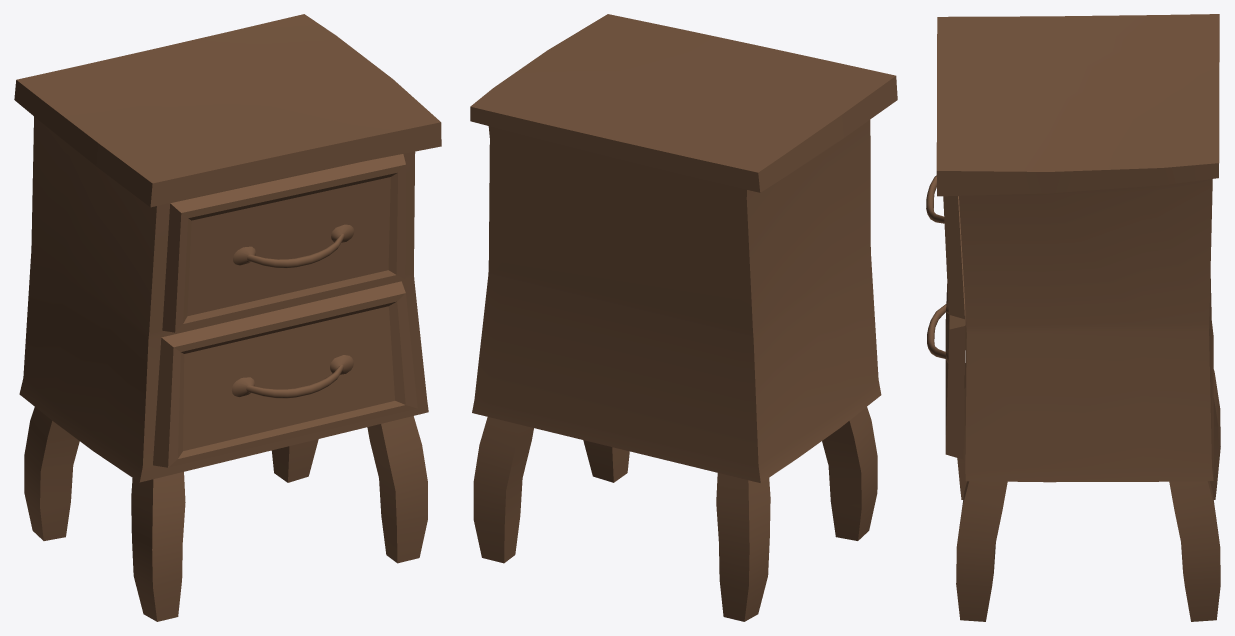
Rendered from SM_Nightstand.FBX.
3 views of the same model, side by side, from view 1: azimuth 30°, elevation 25°; view 2: azimuth 150°, elevation 25°; view 3: azimuth 270°, elevation 25° (orthographic). The views are drawn at different scales.
Parts seen in each view (by area): view 1: SM_Nightstand; view 2: SM_Nightstand; view 3: SM_Nightstand.
Part boxes in pixels (<box>): SM_Nightstand: <box>14,14,441,621</box>; SM_Nightstand: <box>470,14,897,621</box>; SM_Nightstand: <box>926,14,1220,621</box>.
Size of the model in its own units: 48.55 by 71.3 by 40.62.
